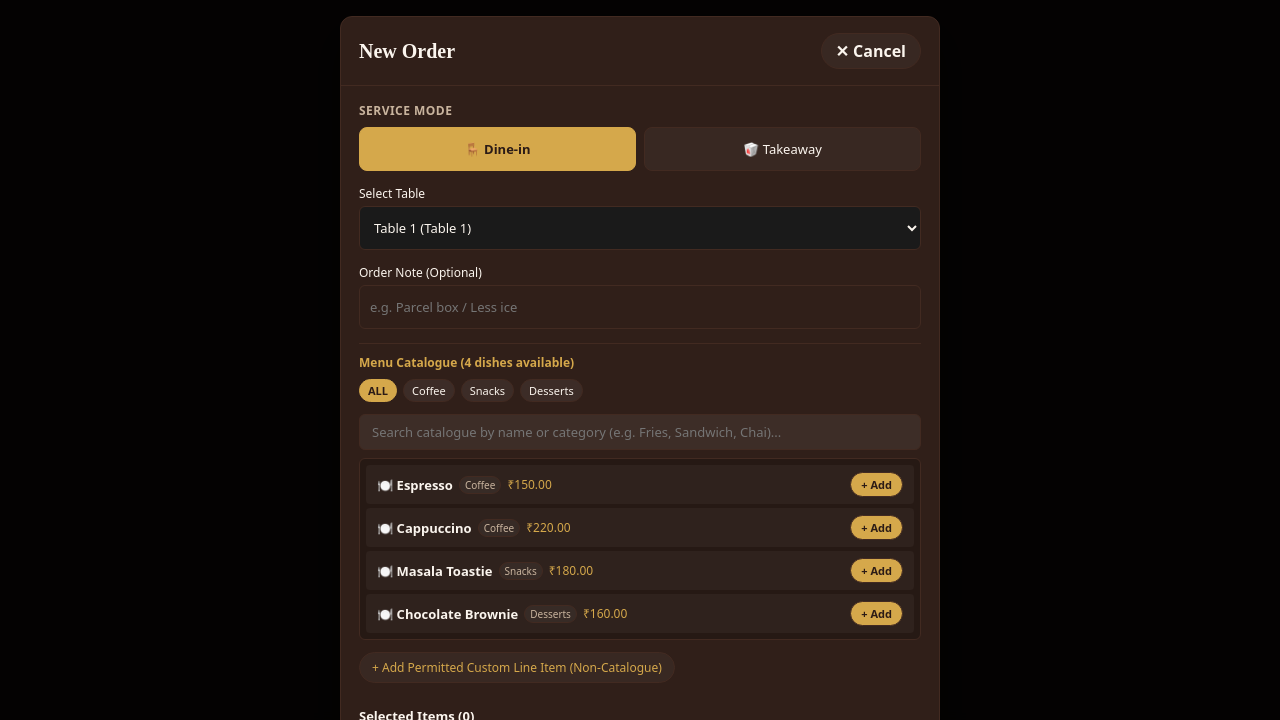
Test case: ManualOrderModal Component › adds dish to current order, increments quantity on repeat click without duplicate rows, and supports remove control
expect the text "Selected Items (0)" is shown: met, box [359,707,474,719]
Note: Add Espresso
Click the button with aria-label "Add Espresso to order" at (877, 484), box [850,472,903,497]
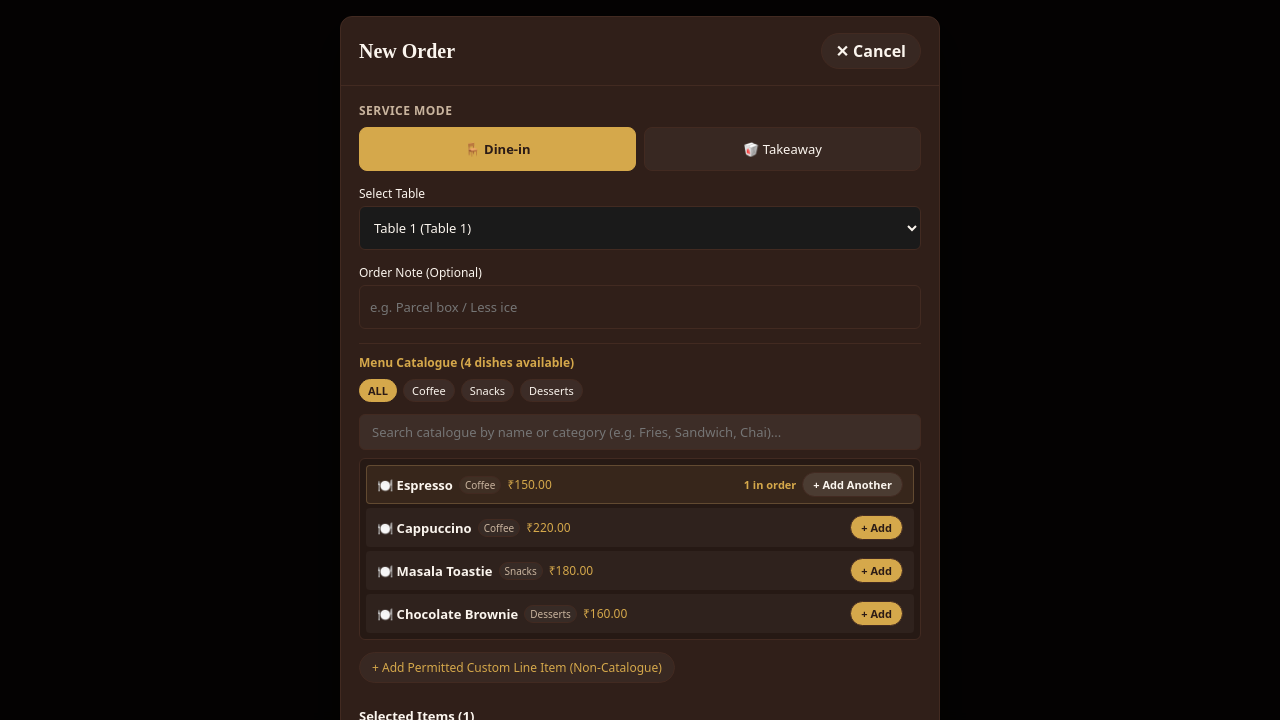
expect the text "Selected Items (1)" is shown: met, box [359,707,474,719]
expect the text "1 in order" is shown: met, box [744,477,796,492]
Note: Click "+ Add Another"
Click the button with aria-label "Add Espresso to order" at (853, 484), box [802,472,903,497]
(page scrolled)
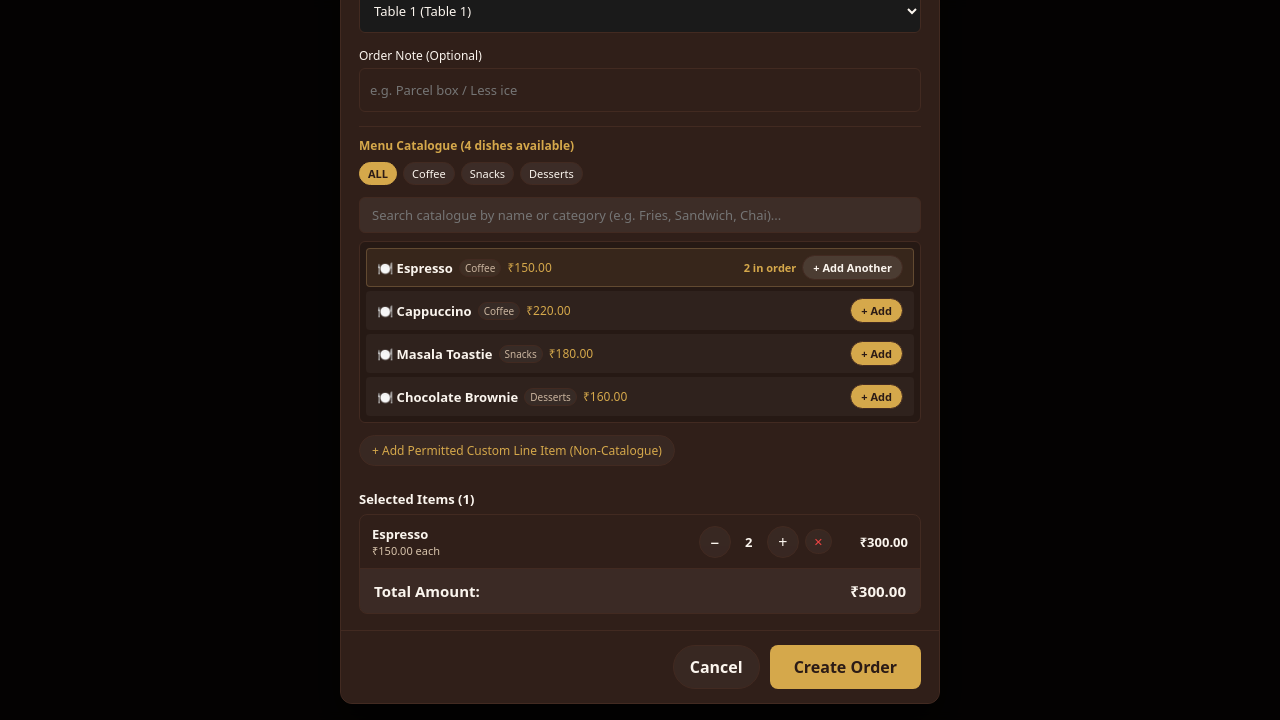
expect the text "Selected Items (1)" is shown: met, box [359,490,474,508]
expect the text "2 in order" is shown: met, box [744,260,796,275]
expect the text with test id "manual-order-total-amount" reads "₹300.00": met, box [850,581,906,601]
Note: Use decrement control
Click the button named "Decrease quantity" at (715, 542), box [699,526,731,558]
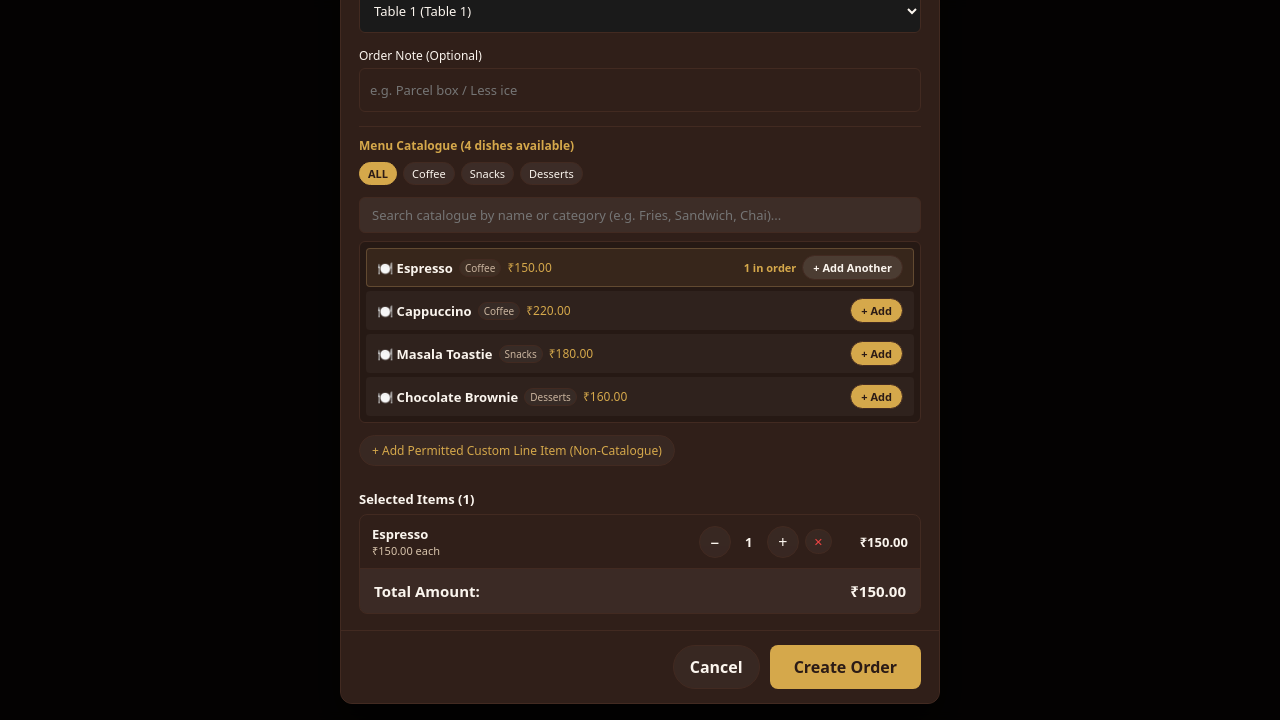
expect the text with test id "manual-order-total-amount" reads "₹150.00": met, box [850,581,906,601]
Note: Use remove control
Click the button named "Remove Espresso" at (818, 542), box [805,529,832,554]
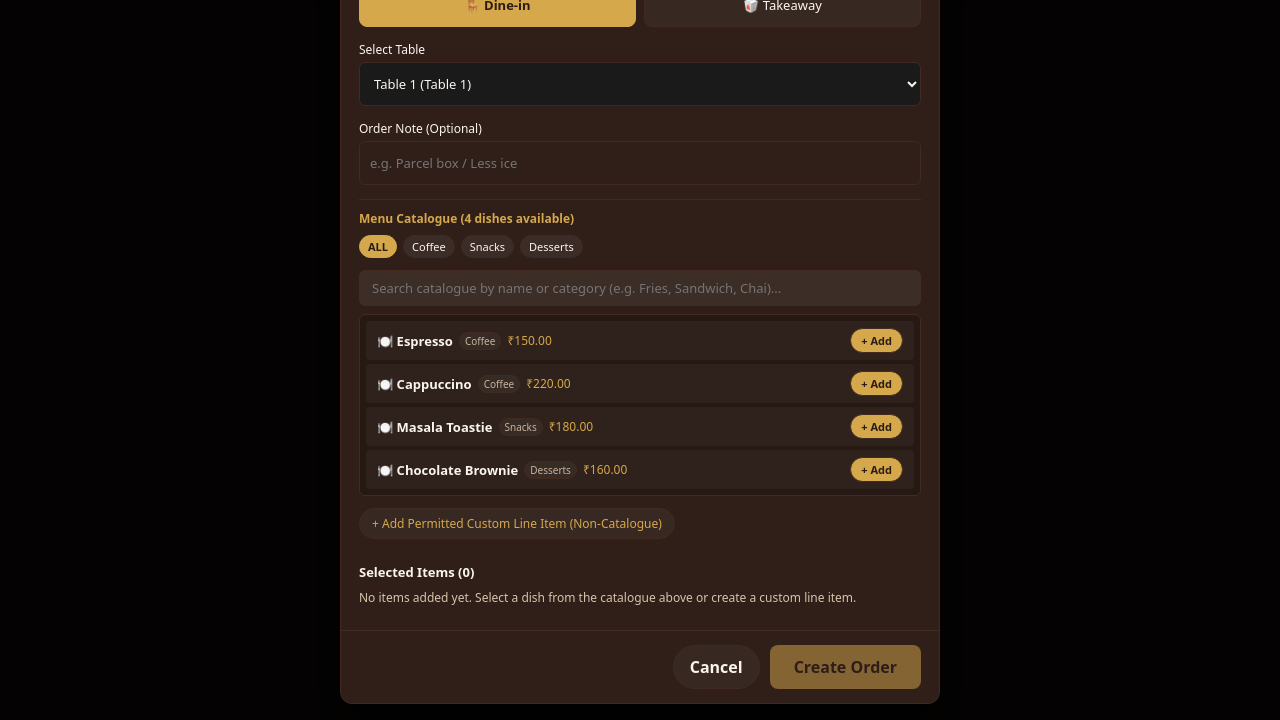
expect the text "Selected Items (0)" is shown: met, box [359,563,474,581]
